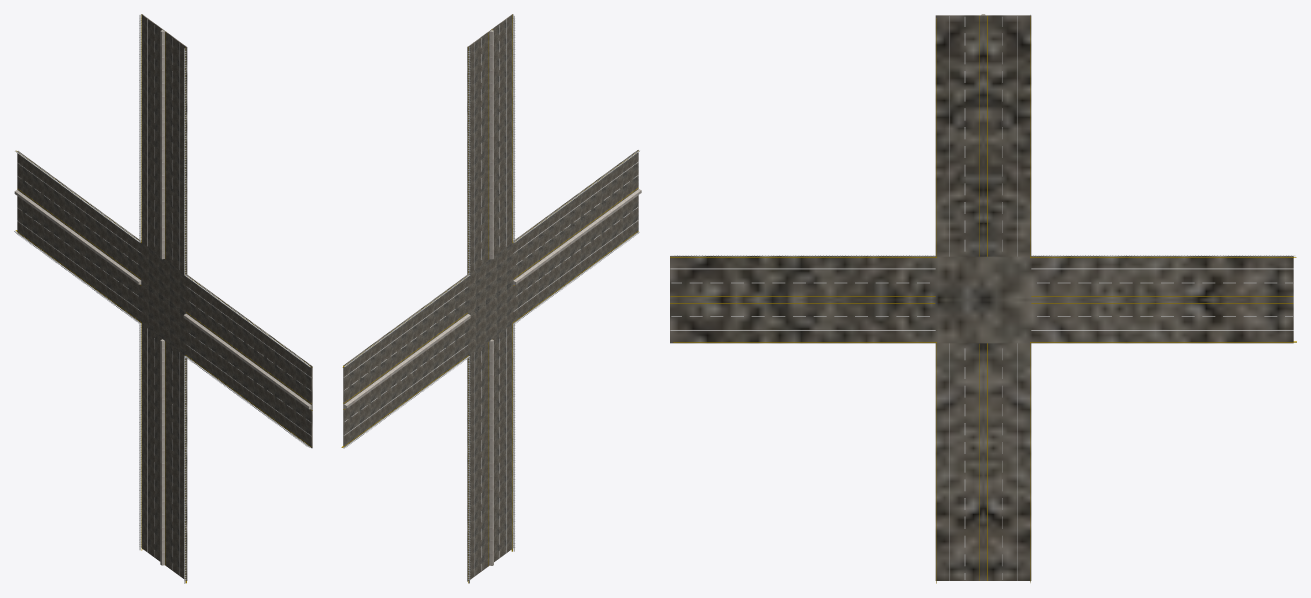
The model's file is Highway_intersection.obj.
3 views of the same model, side by side, from view 1: azimuth 30°, elevation 25°; view 2: azimuth 150°, elevation 25°; view 3: azimuth 270°, elevation 25° (orthographic). The views are drawn at different scales.
Parts seen in each view (by area): view 1: Highway_Cube, Highway.001_Cube.014, Central_Piece.001_Cube.017, Central_Piece_Cube.001, Left_Most_Straight_Line.001_Cube.009, Left_Side_Bar.001_Cylinder.006, Left_Side_Bar.003_Cylinder.007, Left_Side_Bar.002_Cylinder.005, Left_Cylinder_Bar_Cylinder.000, Right_Cylinde_Bar.001_Cylinder.002, Left_Side_Bar_Cylinder.070, Central_Yellow_2.001_Cube.015 (+1 smaller); view 2: Highway_Cube, Highway.001_Cube.014, Central_Piece.001_Cube.017, Central_Piece_Cube.001, Left_Most_Straight_Line.001_Cube.009, Left_Side_Bar.002_Cylinder.005, Left_Side_Bar_Cylinder.070, Left_Cylinder_Bar_Cylinder.000, Left_Cylinder_Bar.001_Cylinder.004, Left_Side_Bar.001_Cylinder.006, Righ_Most_Straight_line.001_Cube.007, Central_Yellow_1.001_Cube.016 (+2 smaller); view 3: Highway_Cube, Highway.001_Cube.014, Left_Most_Straight_Line.001_Cube.009.
Boxes of the visible parts, x1,y1,x2,y2 form: Highway_Cube: (17,151,312,448); Highway.001_Cube.014: (141,14,187,580); Central_Piece.001_Cube.017: (160,30,164,565); Central_Piece_Cube.001: (14,190,311,409); Left_Most_Straight_Line.001_Cube.009: (18,19,311,552); Left_Side_Bar.001_Cylinder.006: (14,231,140,550); Left_Side_Bar.003_Cylinder.007: (15,14,140,242); Left_Side_Bar.002_Cylinder.005: (184,356,310,583); Left_Cylinder_Bar_Cylinder.000: (16,151,309,365); Right_Cylinde_Bar.001_Cylinder.002: (184,51,186,580); Left_Side_Bar_Cylinder.070: (184,48,310,367); Central_Yellow_2.001_Cube.015: (165,32,165,565); Highway_Cube: (343,150,638,447); Highway.001_Cube.014: (467,14,513,581); Central_Piece.001_Cube.017: (489,30,493,565); Central_Piece_Cube.001: (344,189,641,408); Left_Most_Straight_Line.001_Cube.009: (343,43,638,576); Left_Side_Bar.002_Cylinder.005: (513,232,639,551); Left_Side_Bar_Cylinder.070: (513,15,639,242); Left_Cylinder_Bar_Cylinder.000: (345,151,638,365); Left_Cylinder_Bar.001_Cylinder.004: (468,51,470,580); Left_Side_Bar.001_Cylinder.006: (343,356,469,583); Righ_Most_Straight_line.001_Cube.007: (506,19,506,552); Central_Yellow_1.001_Cube.016: (488,32,488,565); Highway_Cube: (670,256,1293,343); Highway.001_Cube.014: (935,15,1031,580); Left_Most_Straight_Line.001_Cube.009: (670,16,1293,580).
Bounding box in the file's own units: 1.12 × 152 × 152.
123 materials, 4 textured.
